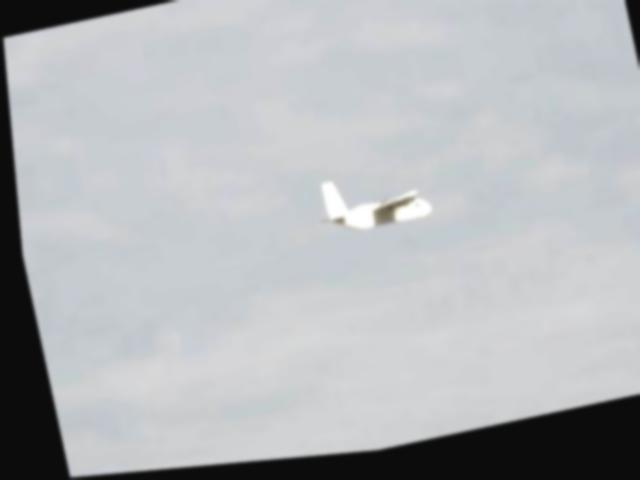uav: (306, 165, 428, 244)
